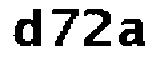2: (82, 5, 113, 50)
7: (44, 5, 81, 52)
a: (117, 15, 149, 52)
d: (11, 5, 44, 51)
